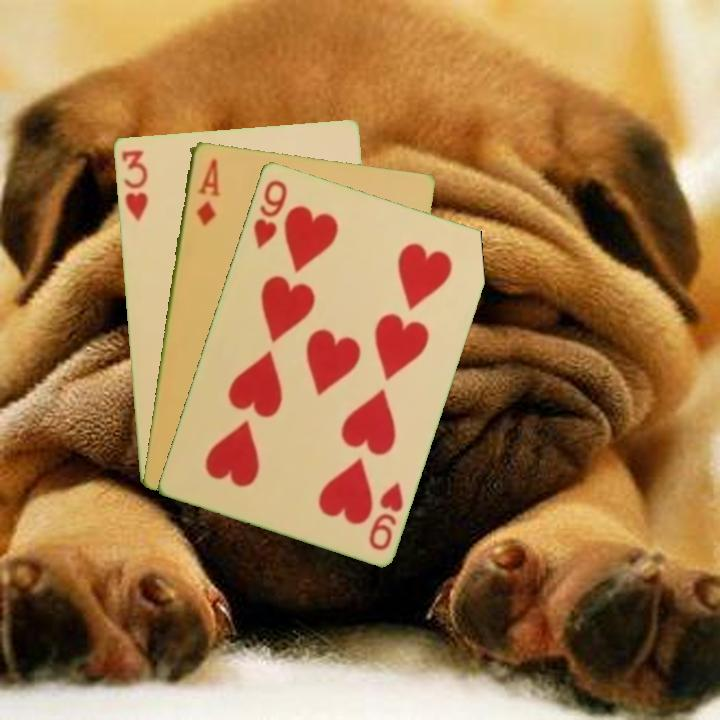3h: (117, 146, 151, 224)
9h: (364, 478, 406, 553), (249, 176, 290, 251)
Ad: (192, 154, 222, 228)
